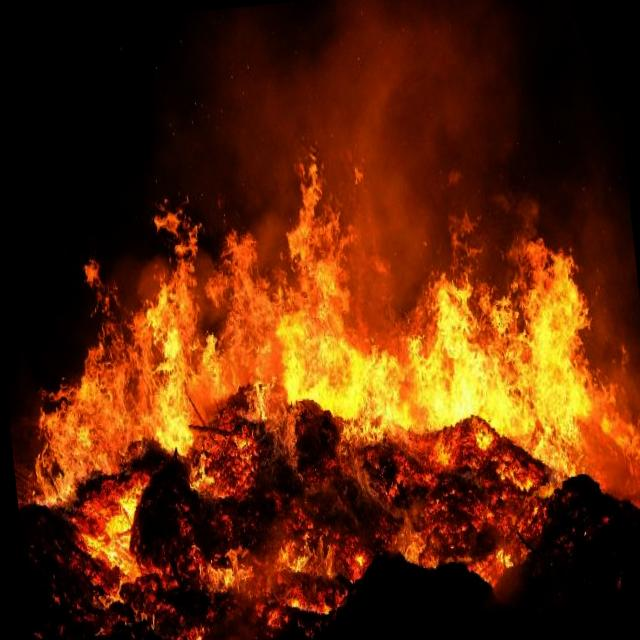Fire_Dangerous: (13, 130, 640, 640)
